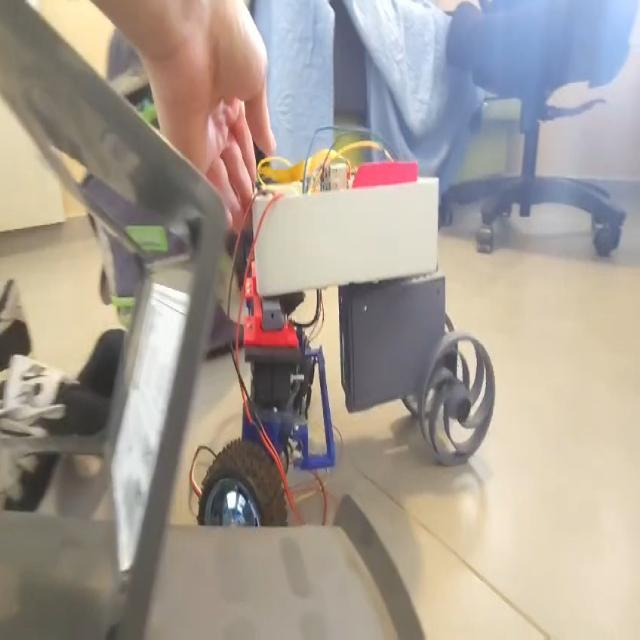Robot: (198, 155, 496, 530)
